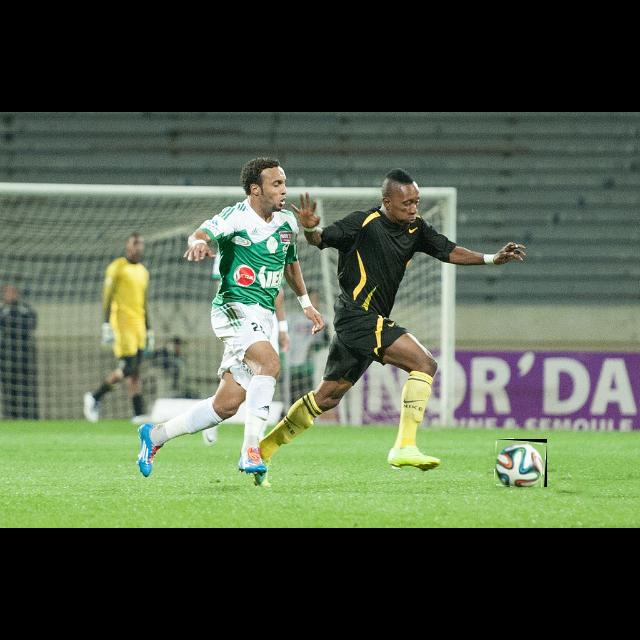Football: (495, 439, 547, 487)
